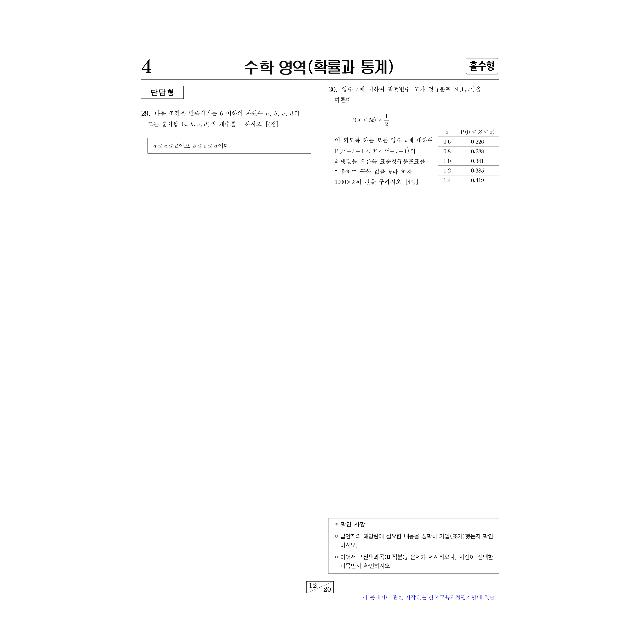short: (323, 80, 507, 198), (135, 106, 317, 158)
